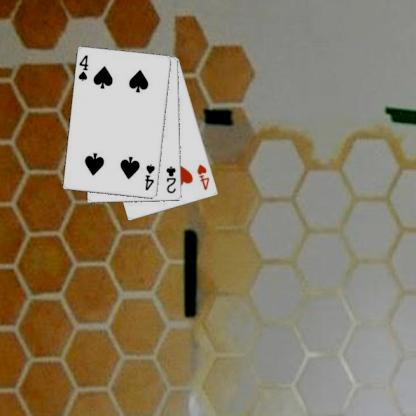2C: (164, 164, 178, 195)
4H: (195, 162, 211, 192)
4S: (76, 52, 90, 83), (142, 162, 156, 192)
